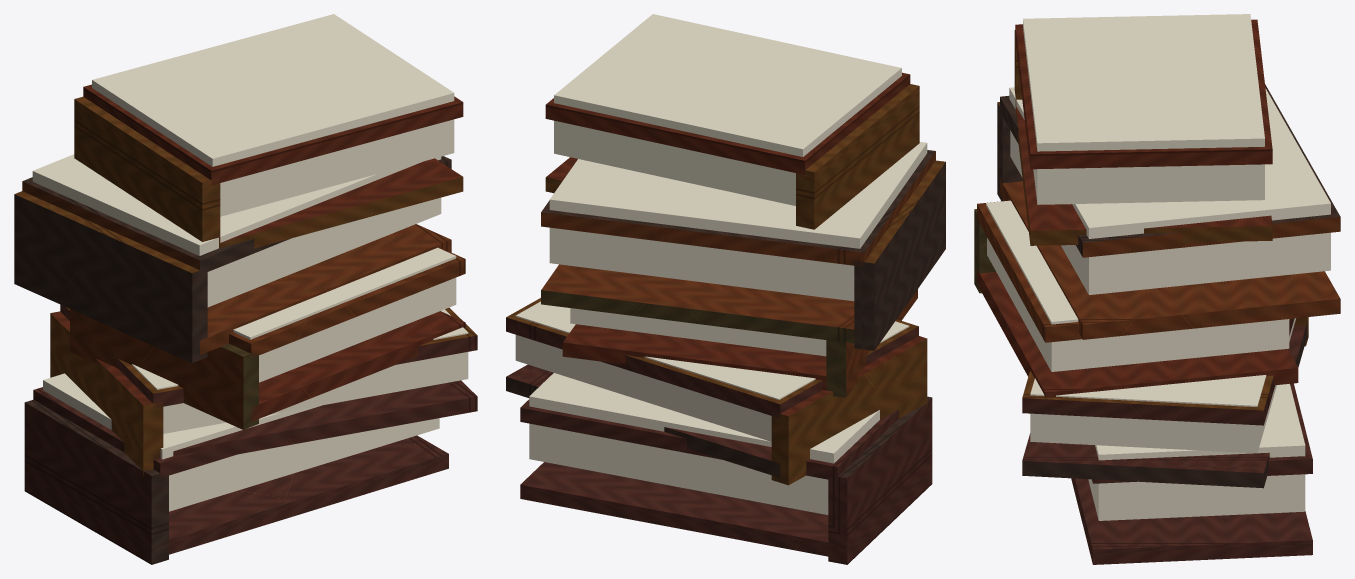
The model's file is stack.glb.
3 views of the same model, side by side, from view 1: azimuth 30°, elevation 25°; view 2: azimuth 150°, elevation 25°; view 3: azimuth 270°, elevation 25° (orthographic). The views are drawn at different scales.
Visible parts, largest first — view 1: stack; view 2: stack; view 3: stack.
Part boxes in pixels (x1,y1,x2,y2): stack: (14, 14, 477, 564); stack: (506, 14, 945, 564); stack: (974, 14, 1340, 564).
Size of the model in its own units: 0.3213 by 0.3325 by 0.2653.
2 materials, 1 textured.
